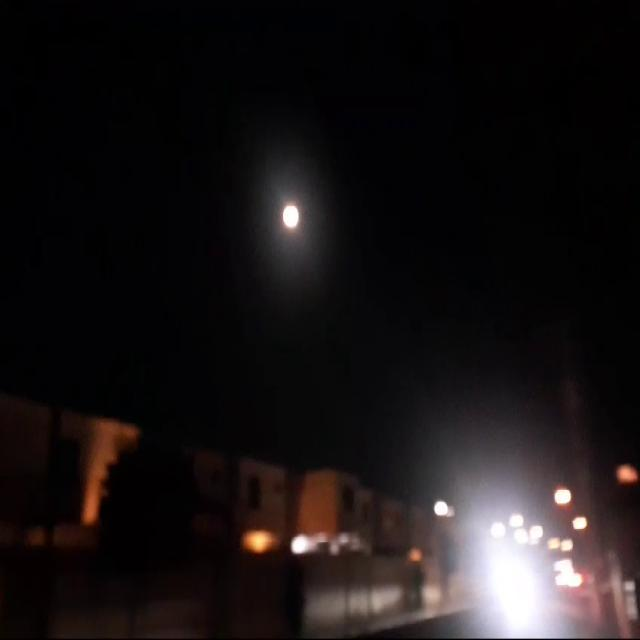moon: (308, 199, 327, 233)
